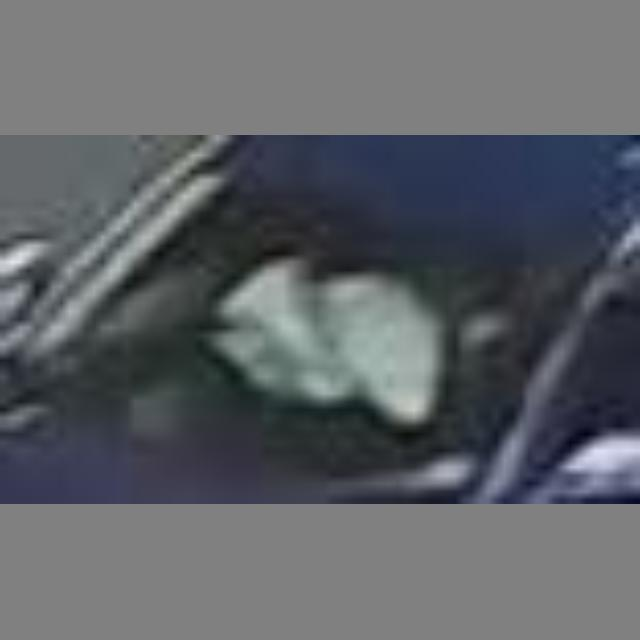pakai: (213, 225, 427, 422)
